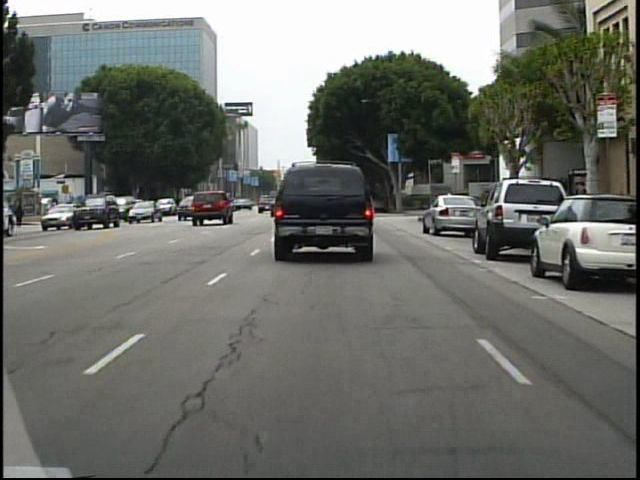person: (492, 176, 514, 224), (441, 186, 460, 226), (19, 202, 25, 228)
